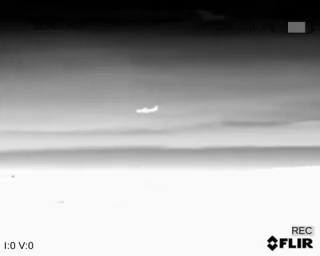AIRPLANE: (135, 103, 159, 115)
